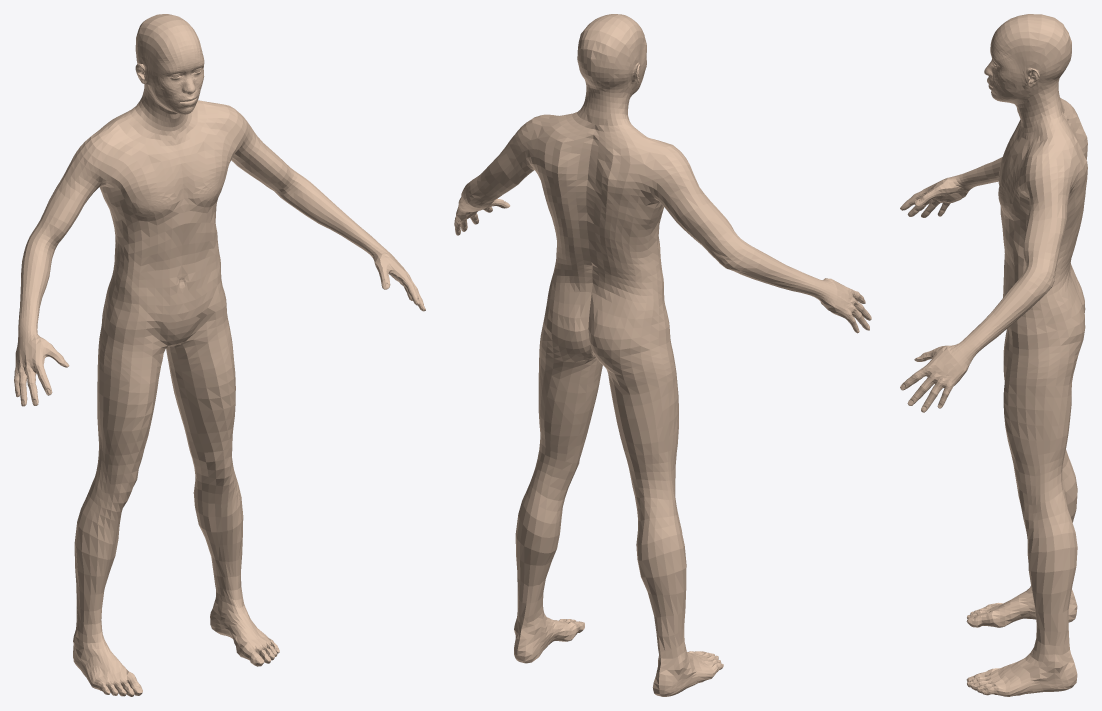
The model's file is male-young-lean-high.glb.
3 views of the same model, side by side, from view 1: azimuth 30°, elevation 25°; view 2: azimuth 150°, elevation 25°; view 3: azimuth 270°, elevation 25° (orthographic).
Visible parts, largest first — view 1: world; view 2: world; view 3: world.
Part boxes in pixels (left/top/right/bottom): world: left=14, top=14, right=425, bottom=696; world: left=454, top=14, right=871, bottom=696; world: left=900, top=14, right=1087, bottom=696.
Size of the model in its own units: 1.24 by 1.89 by 0.5034.
